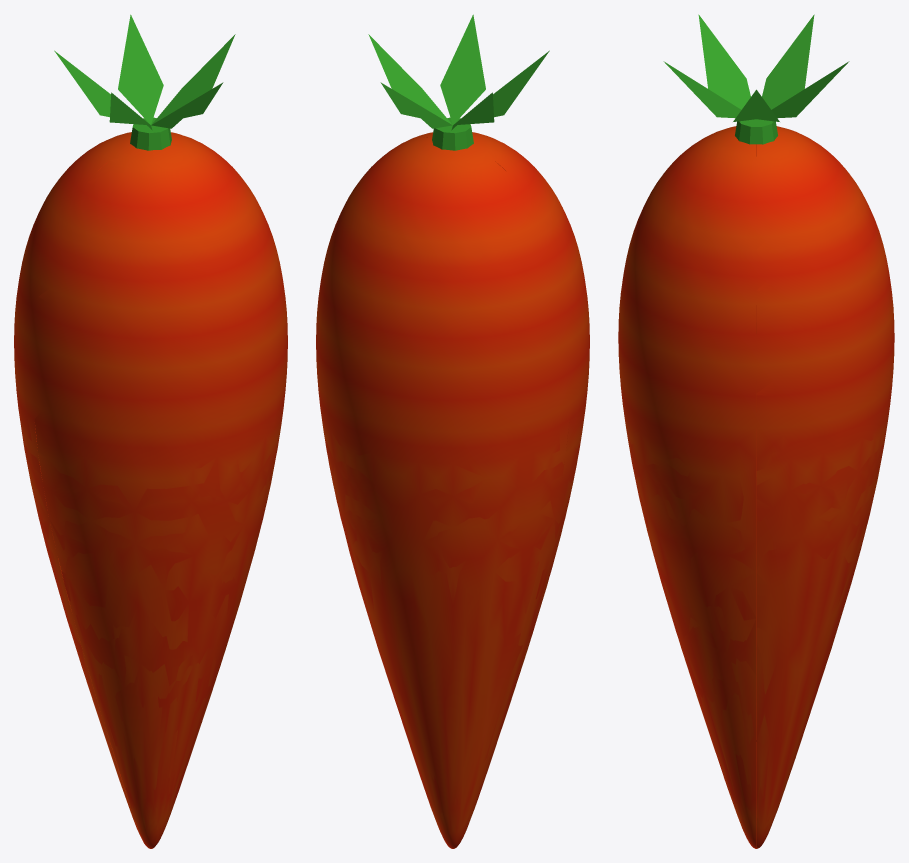
File: carotte.glb
The picture shows the model from 3 angles, left to right: view 1: azimuth 30°, elevation 25°; view 2: azimuth 150°, elevation 25°; view 3: azimuth 270°, elevation 25°; orthographic projection.
Parts seen in each view (by area): view 1: entier_peau, moitie_B_peau, entier_extra0, moitie_A_peau; view 2: entier_peau, moitie_A_peau, entier_extra0, moitie_B_peau; view 3: entier_peau, moitie_B_peau, moitie_A_peau, entier_extra0.
Part boxes in pixels (x1,y1,x2,y2): entier_peau: [14, 132, 287, 848]; moitie_B_peau: [34, 137, 287, 848]; entier_extra0: [54, 14, 235, 150]; moitie_A_peau: [14, 133, 201, 834]; entier_peau: [316, 132, 589, 848]; moitie_A_peau: [316, 139, 571, 848]; entier_extra0: [368, 14, 549, 150]; moitie_B_peau: [403, 132, 589, 842]; entier_peau: [618, 126, 894, 848]; moitie_B_peau: [619, 126, 756, 848]; moitie_A_peau: [756, 127, 893, 848]; entier_extra0: [663, 14, 849, 144].
Bounding box in the file's own units: 0.7 × 2.24 × 0.7.
